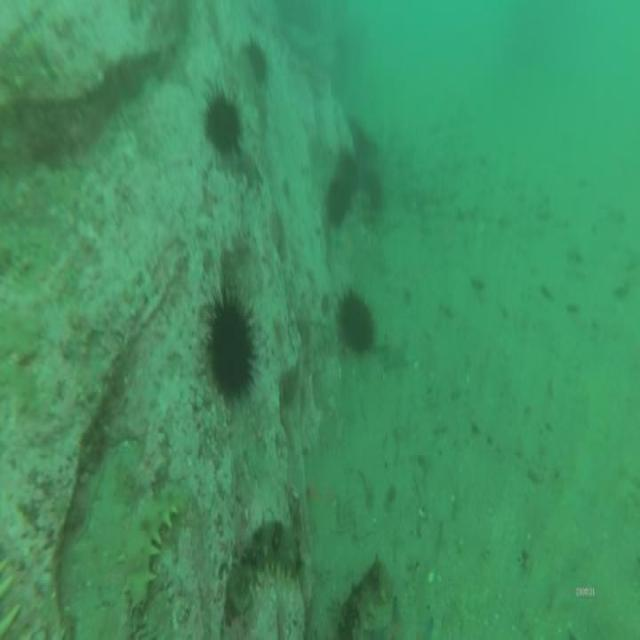echinus: (212, 302, 252, 392), (338, 294, 374, 354), (204, 100, 238, 152), (337, 152, 360, 199), (327, 177, 345, 223), (250, 41, 269, 79)
holothurian: (124, 484, 188, 602), (228, 524, 298, 604), (339, 556, 392, 640)
